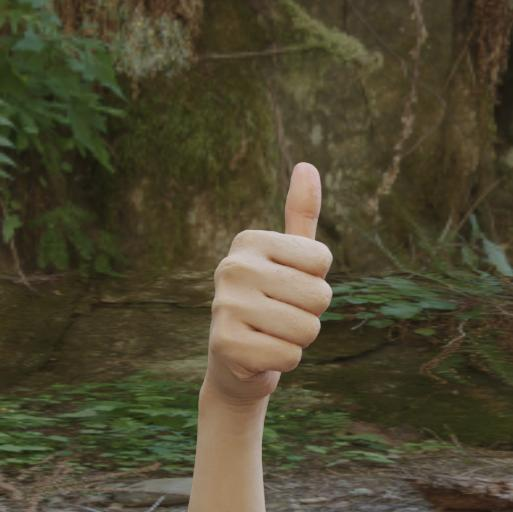thumbs-up: (204, 154, 338, 404)
